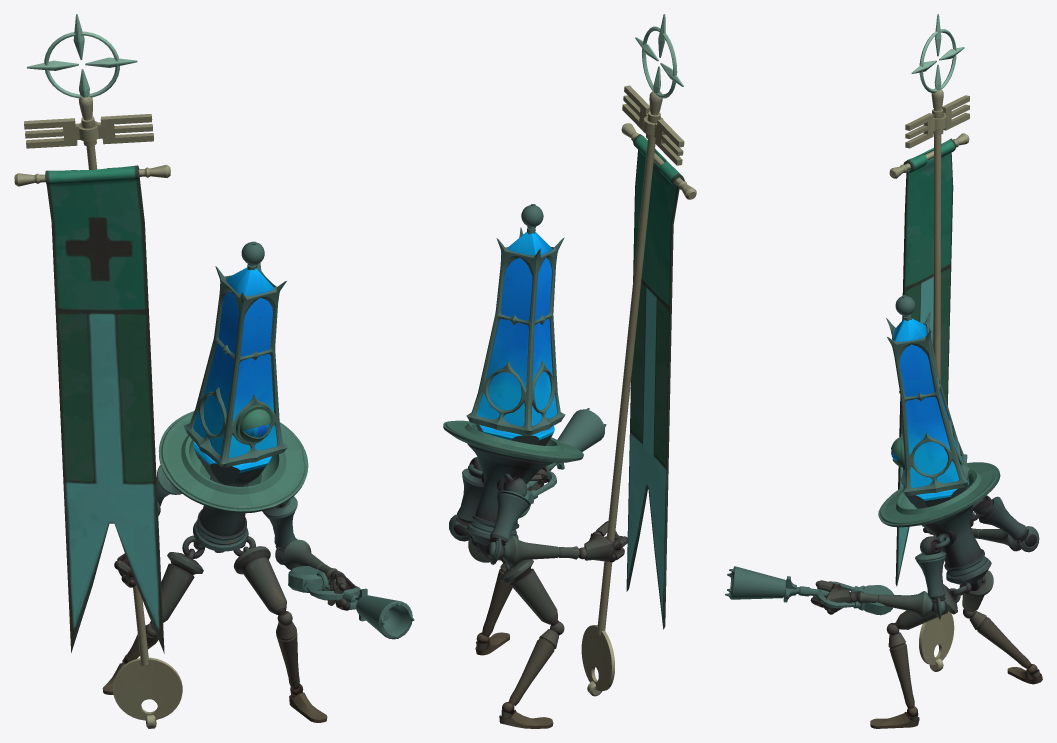
The model's file is Sapphire_Medic.glb.
The picture shows the model from 3 angles, left to right: view 1: azimuth 30°, elevation 25°; view 2: azimuth 150°, elevation 25°; view 3: azimuth 270°, elevation 25°; orthographic projection. The views are drawn at different scales.
Visible parts, largest first — view 1: models\npc_units\troopers\sapphire_medic_01\sapphire_medic_0 (×2); view 2: models\npc_units\troopers\sapphire_medic_01\sapphire_medic_0 (×2); view 3: models\npc_units\troopers\sapphire_medic_01\sapphire_medic_0 (×2).
Boxes of the visible parts, <box> form: models\npc_units\troopers\sapphire_medic_01\sapphire_medic_0 (×2): <box>14,14,414,728</box>; models\npc_units\troopers\sapphire_medic_01\sapphire_medic_0 (×2): <box>443,14,696,728</box>; models\npc_units\troopers\sapphire_medic_01\sapphire_medic_0 (×2): <box>725,14,1042,728</box>.
Size of the model in its own units: 1.34 by 3.43 by 1.58.
Materials: 3 (2 with a texture image).
